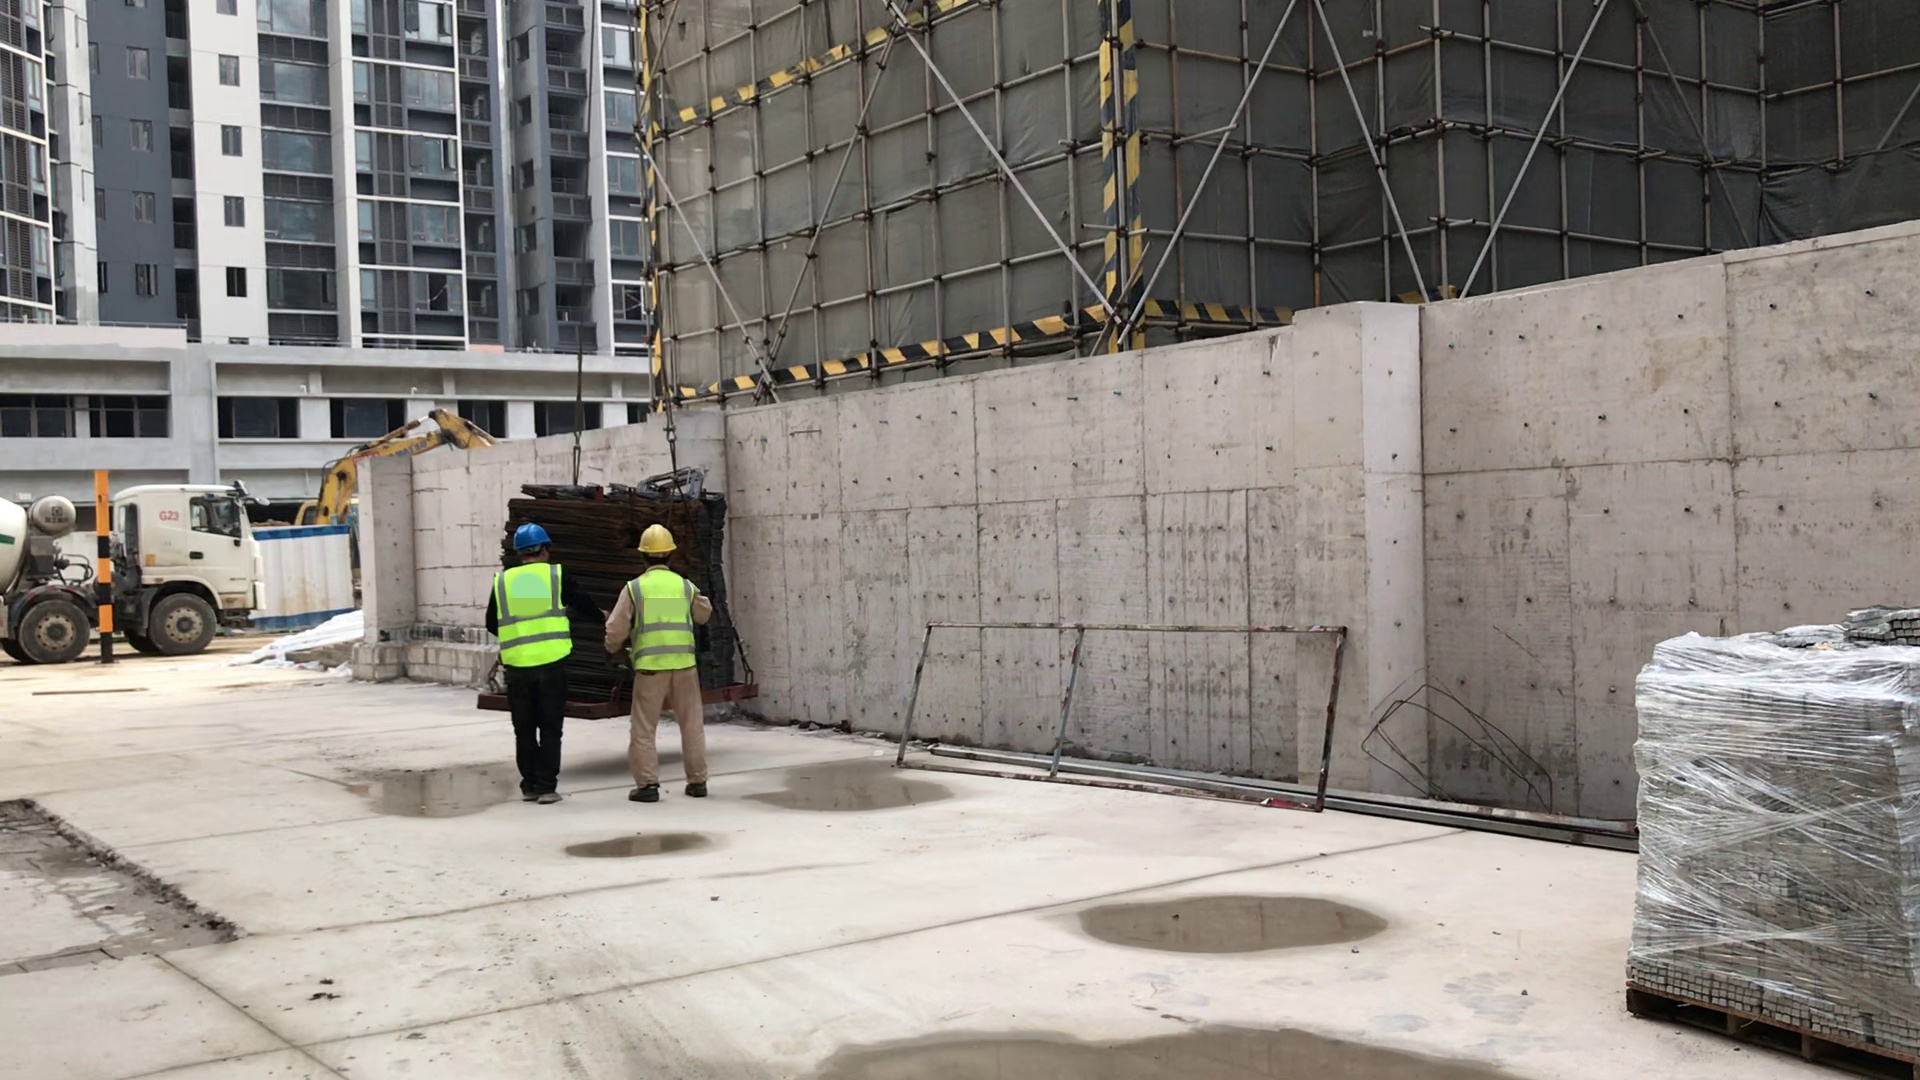helmet: (629, 514, 685, 563), (505, 516, 546, 551)
person: (482, 524, 582, 812), (619, 529, 719, 797)
vest: (617, 576, 709, 676), (487, 565, 572, 670)
